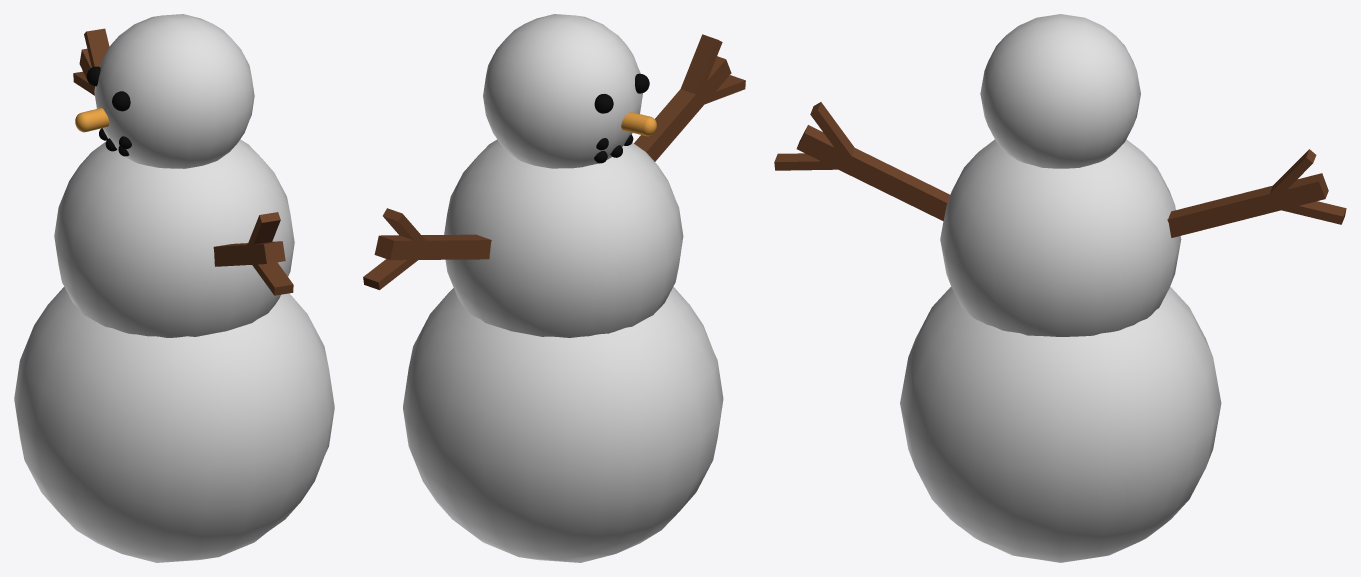
The model's file is Snowman5.glb.
3 views of the same model, side by side, from view 1: azimuth 30°, elevation 25°; view 2: azimuth 150°, elevation 25°; view 3: azimuth 270°, elevation 25° (orthographic).
Parts seen in each view (by area): view 1: Snowman; view 2: Snowman; view 3: Snowman.
Boxes of the visible parts, x1,y1,x2,y2 form: Snowman: [14, 14, 334, 562]; Snowman: [363, 14, 745, 562]; Snowman: [774, 14, 1346, 562].
Size of the model in its own units: 4 by 7.25 by 7.12.
